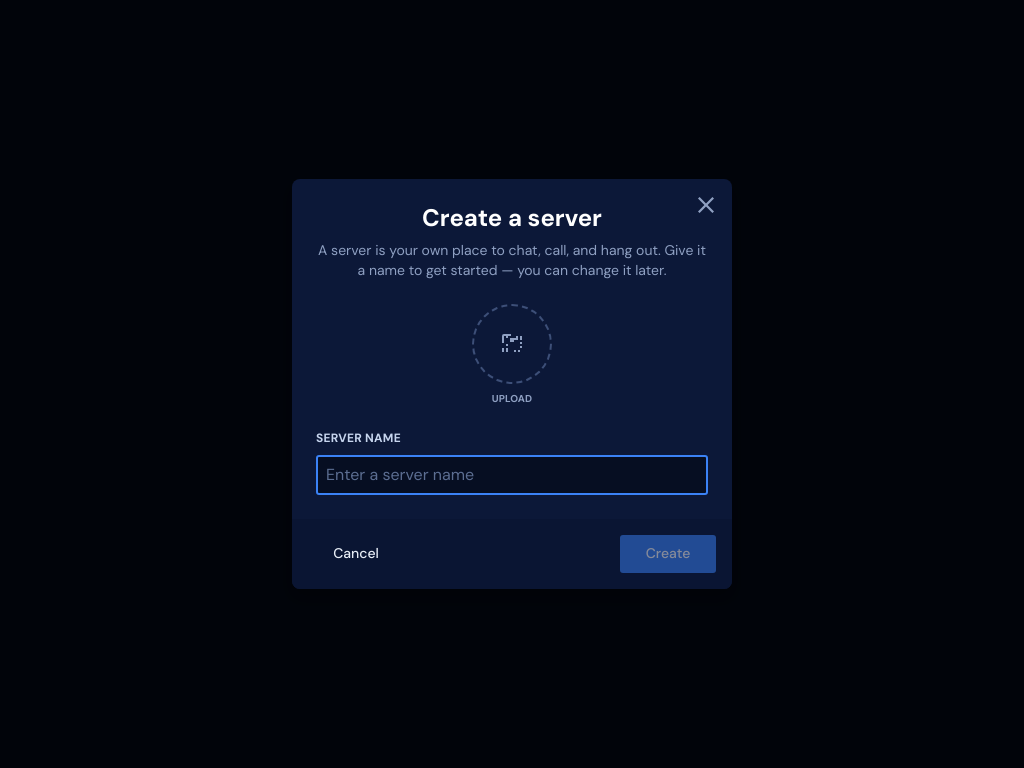
Test: CreateGuildModal › shows error message on API failure
The width and height of the screenshot is (1024, 768).
Type "My Server" into the field labelled "SERVER NAME" at coordinates (512, 475), box [316,455,708,495]
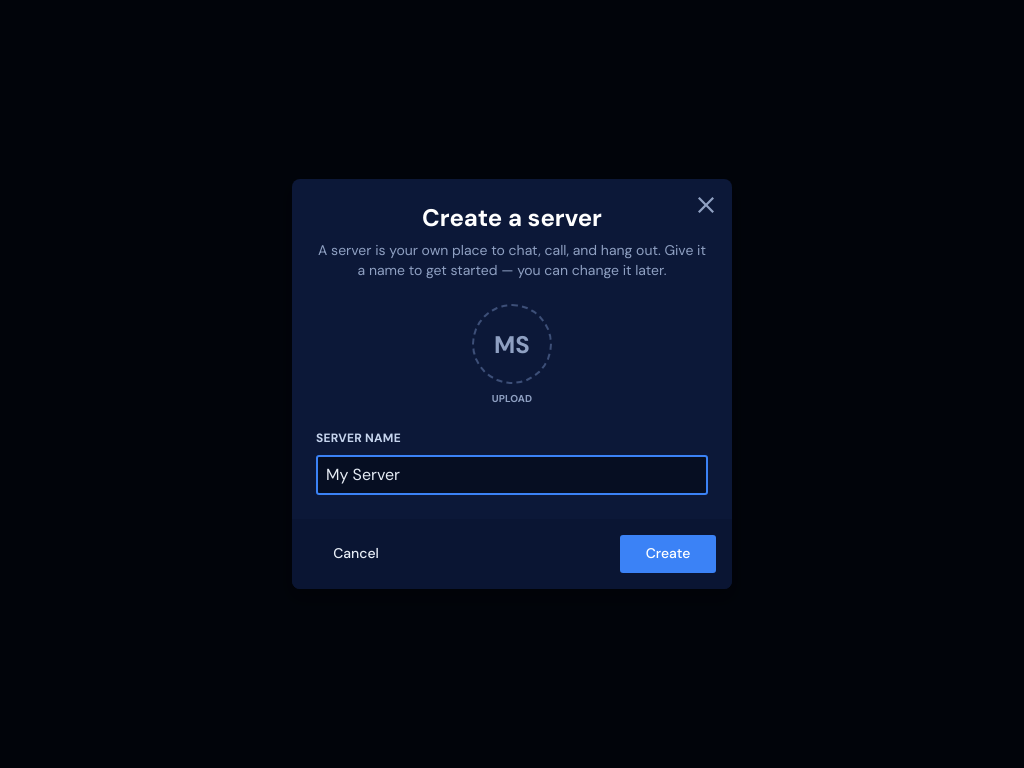
Submit the form named "SERVER NAME", box [292,179,732,589]
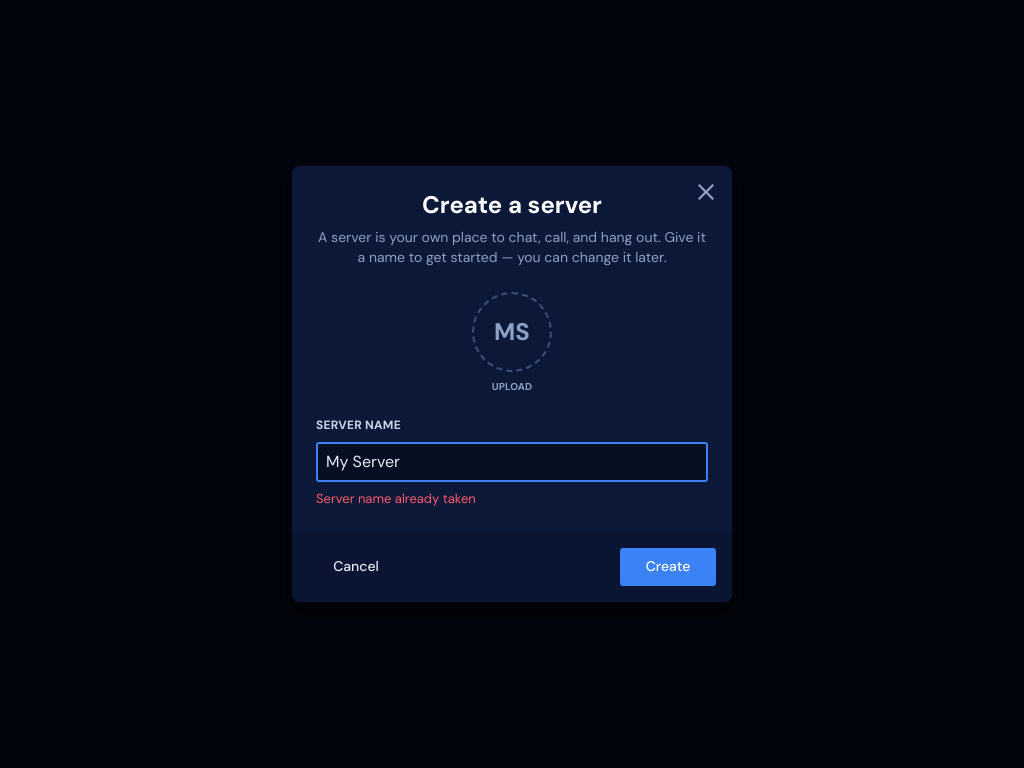
Expected: the text "Server name already taken" is shown, [316,490,476,507]
